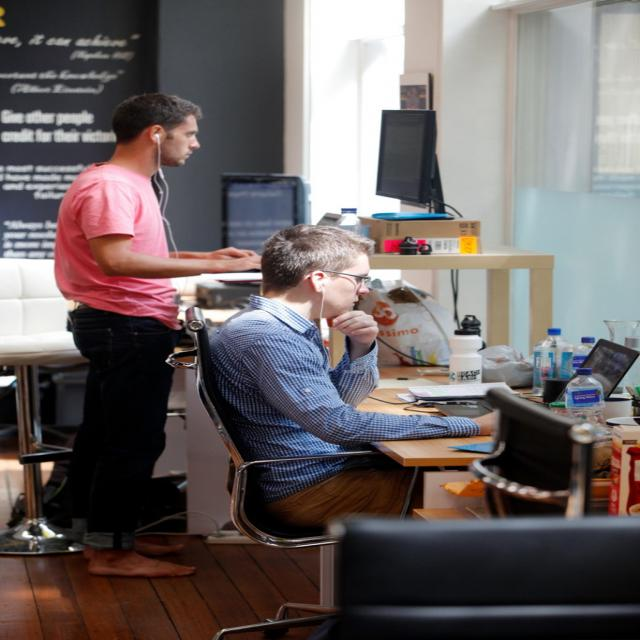chair: (217, 514, 639, 640)
desk: (323, 348, 639, 526)
person: (32, 93, 258, 566), (209, 222, 484, 534)
tv: (374, 110, 441, 210)
